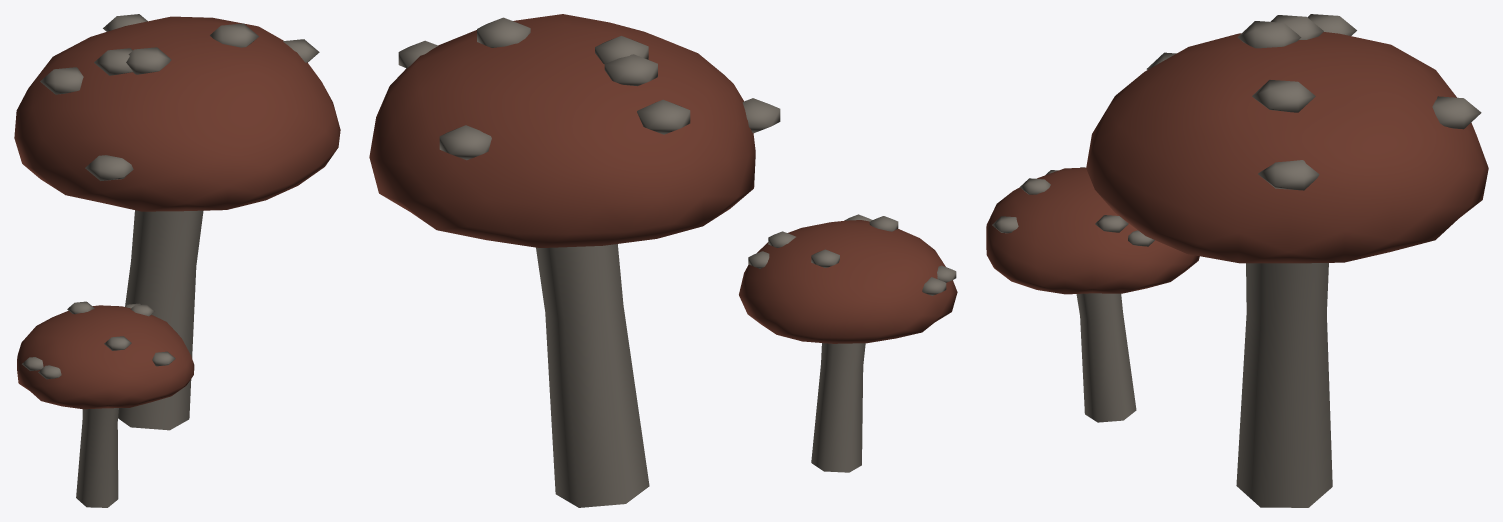
Rendered from red_mushroom_1_burnt2.glb.
3 renders of one model, left to right at view 1: azimuth 30°, elevation 25°; view 2: azimuth 150°, elevation 25°; view 3: azimuth 270°, elevation 25°, orthographic. The views are drawn at different scales.
Visible parts, largest first — view 1: red_mushroom_1_burnt2; view 2: red_mushroom_1_burnt2; view 3: red_mushroom_1_burnt2.
Part boxes in pixels (x1=…): red_mushroom_1_burnt2: x1=14, y1=14, x2=340, y2=507; red_mushroom_1_burnt2: x1=369, y1=14, x2=957, y2=507; red_mushroom_1_burnt2: x1=986, y1=14, x2=1488, y2=507.
Size of the model in its own units: 0.3432 by 0.3275 by 0.3257.
